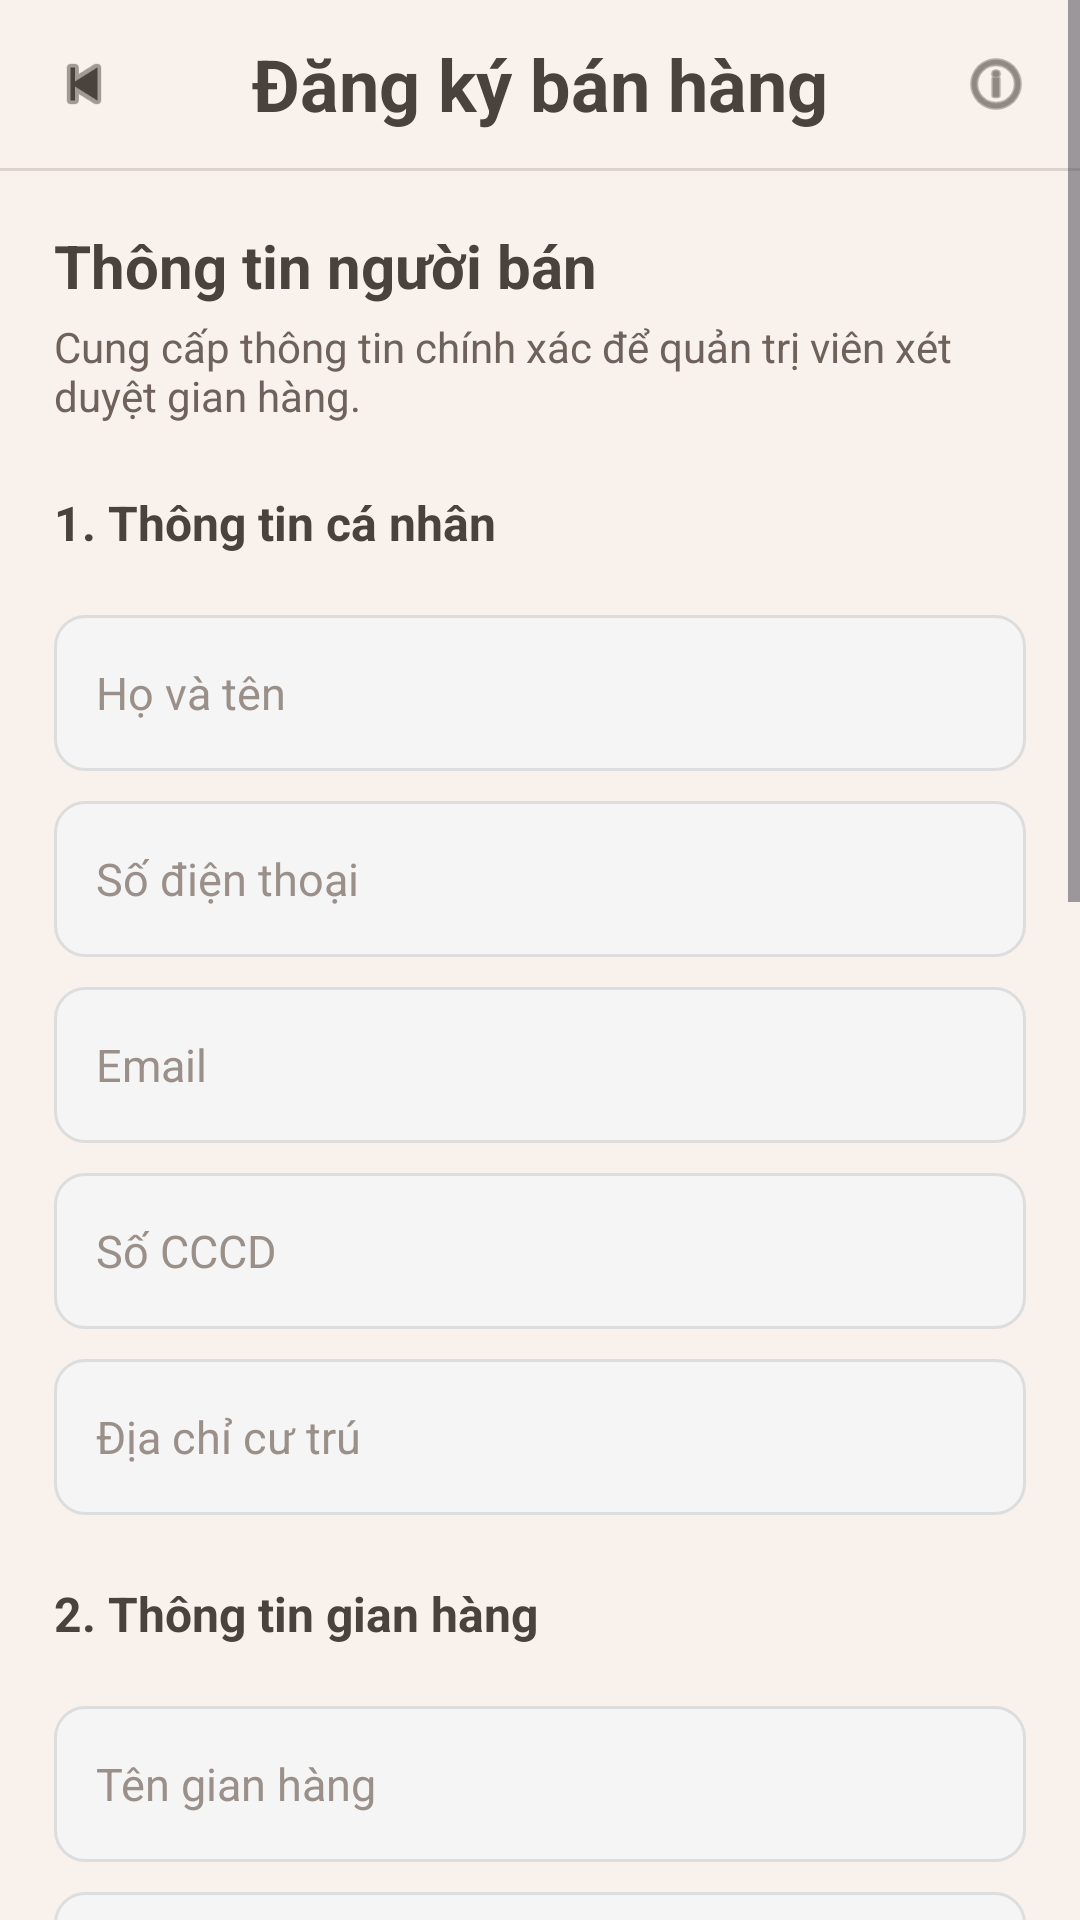

Point at icon controls on the screen. Image size 1080*1920, points as point (x, y).
Quay lại: point (84, 84)
